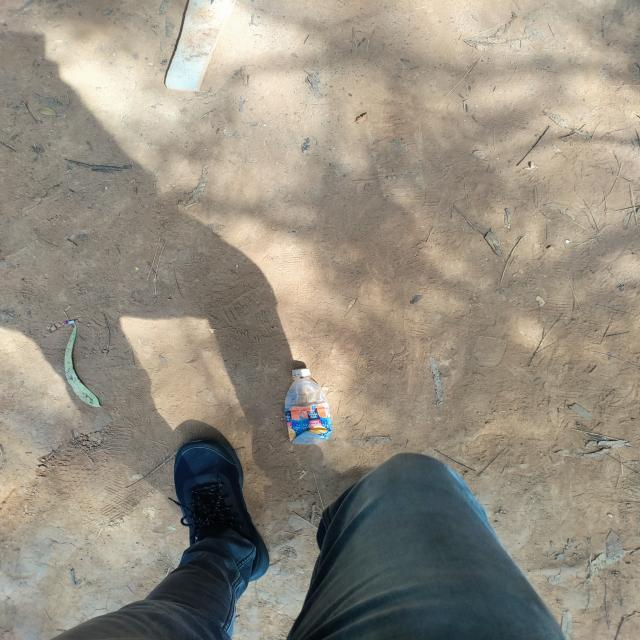dry: (284, 368, 332, 444)
